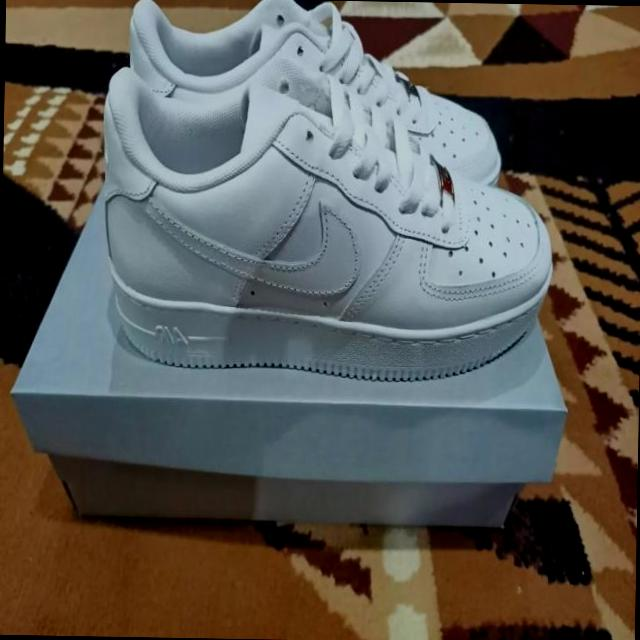nike_fake_airforce: (85, 0, 584, 390)
